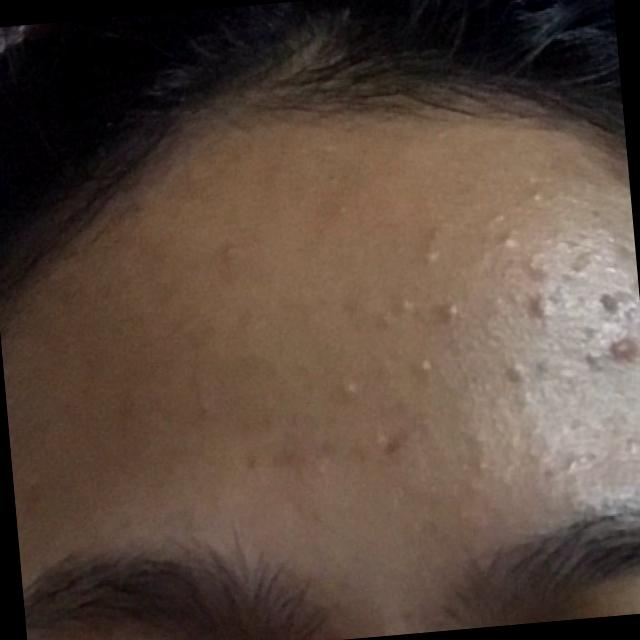fungal: (198, 184, 607, 522)
